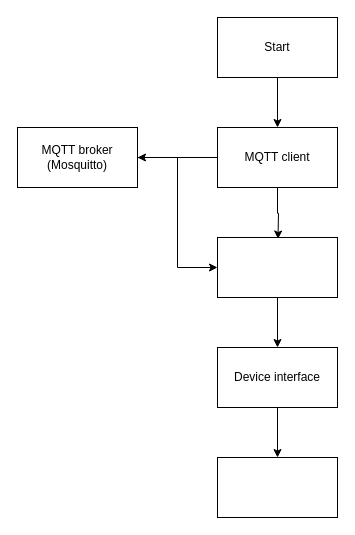
This 355x535 diagram has some shape labels left out. Each missing label, with the box of its shape:
Command Manager: (216, 236, 338, 298)
Crane: (216, 456, 338, 518)
